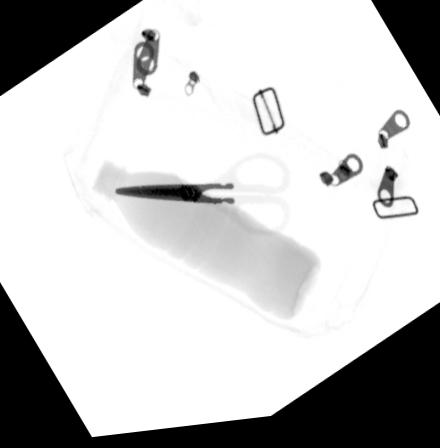Scissors: (115, 156, 290, 242)
